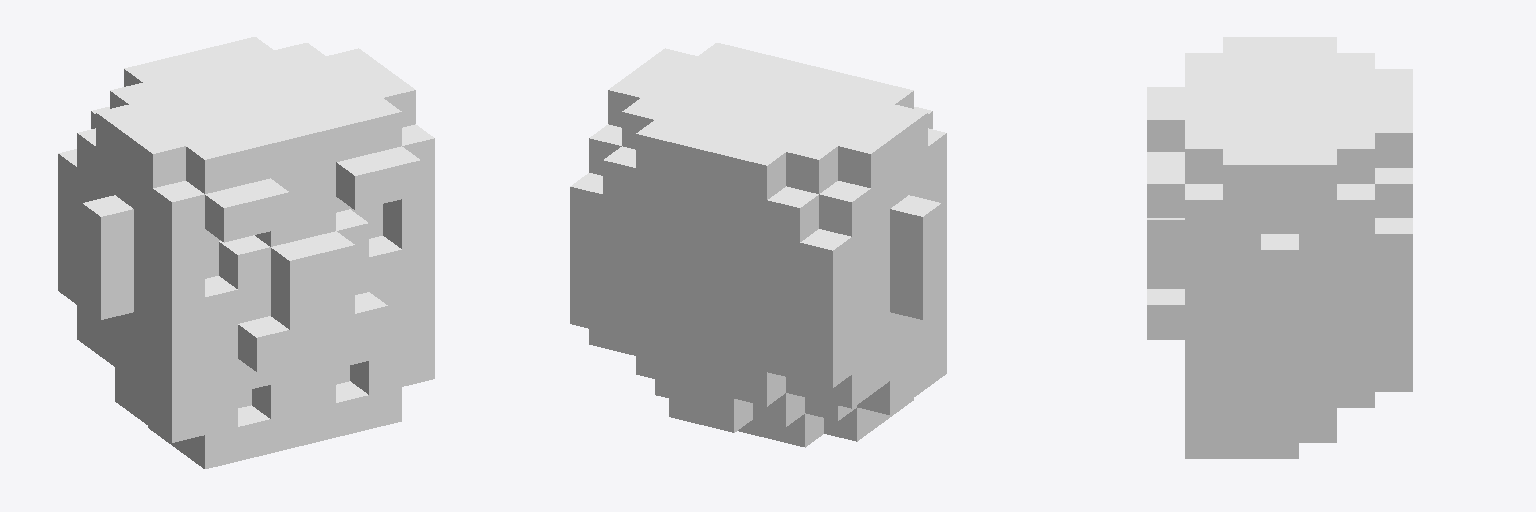
File: TestHead1.obj
3 renders of one model, left to right at view 1: azimuth 30°, elevation 25°; view 2: azimuth 150°, elevation 25°; view 3: azimuth 270°, elevation 25°, orthographic.
Parts seen in each view (by area): view 1: object 1; view 2: object 1; view 3: object 1.
Boxes of the visible parts, x1=… form: object 1: x1=58, y1=37, x2=434, y2=468; object 1: x1=570, y1=43, x2=946, y2=447; object 1: x1=1147, y1=37, x2=1412, y2=458.
Size of the model in its own units: 1 by 0.9 by 0.7.